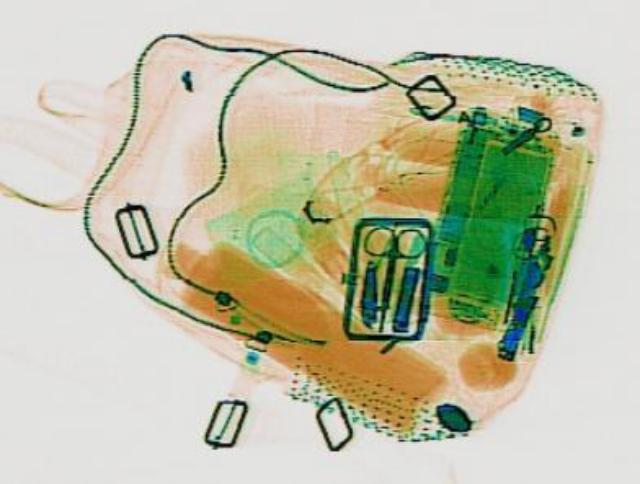Scissors: (344, 224, 428, 332)
